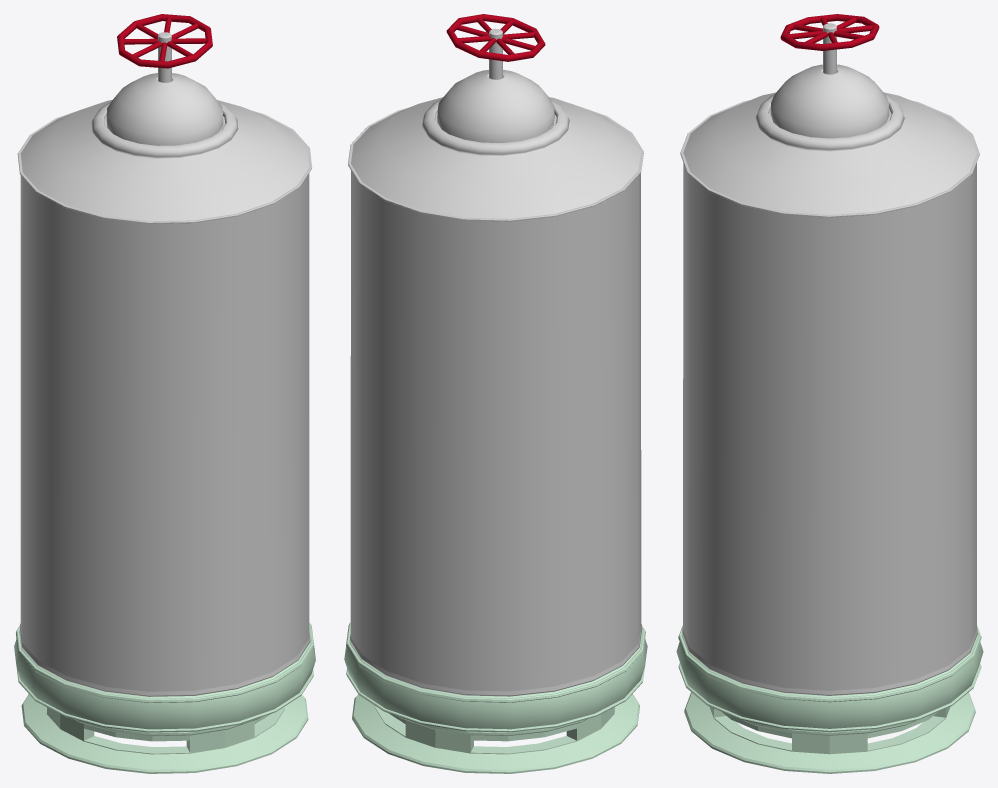
The model's file is TallCanister.fbx.
The picture shows the model from 3 angles, left to right: view 1: azimuth 30°, elevation 25°; view 2: azimuth 150°, elevation 25°; view 3: azimuth 270°, elevation 25°; orthographic projection.
Parts seen in each view (by area): view 1: polySurface1, polySurface2, polySurface3; view 2: polySurface1, polySurface2, polySurface3; view 3: polySurface1, polySurface2, polySurface3.
Boxes of the visible parts, x1=… form: polySurface1: x1=17, y1=32, x2=312, y2=696; polySurface2: x1=14, y1=623, x2=315, y2=773; polySurface3: x1=117, y1=14, x2=212, y2=68; polySurface1: x1=348, y1=28, x2=643, y2=696; polySurface2: x1=344, y1=622, x2=647, y2=773; polySurface3: x1=446, y1=14, x2=545, y2=61; polySurface1: x1=680, y1=23, x2=979, y2=695; polySurface2: x1=676, y1=625, x2=983, y2=773; polySurface3: x1=780, y1=14, x2=879, y2=50.
Size of the model in its own units: 10.47 by 25.9 by 10.47.
